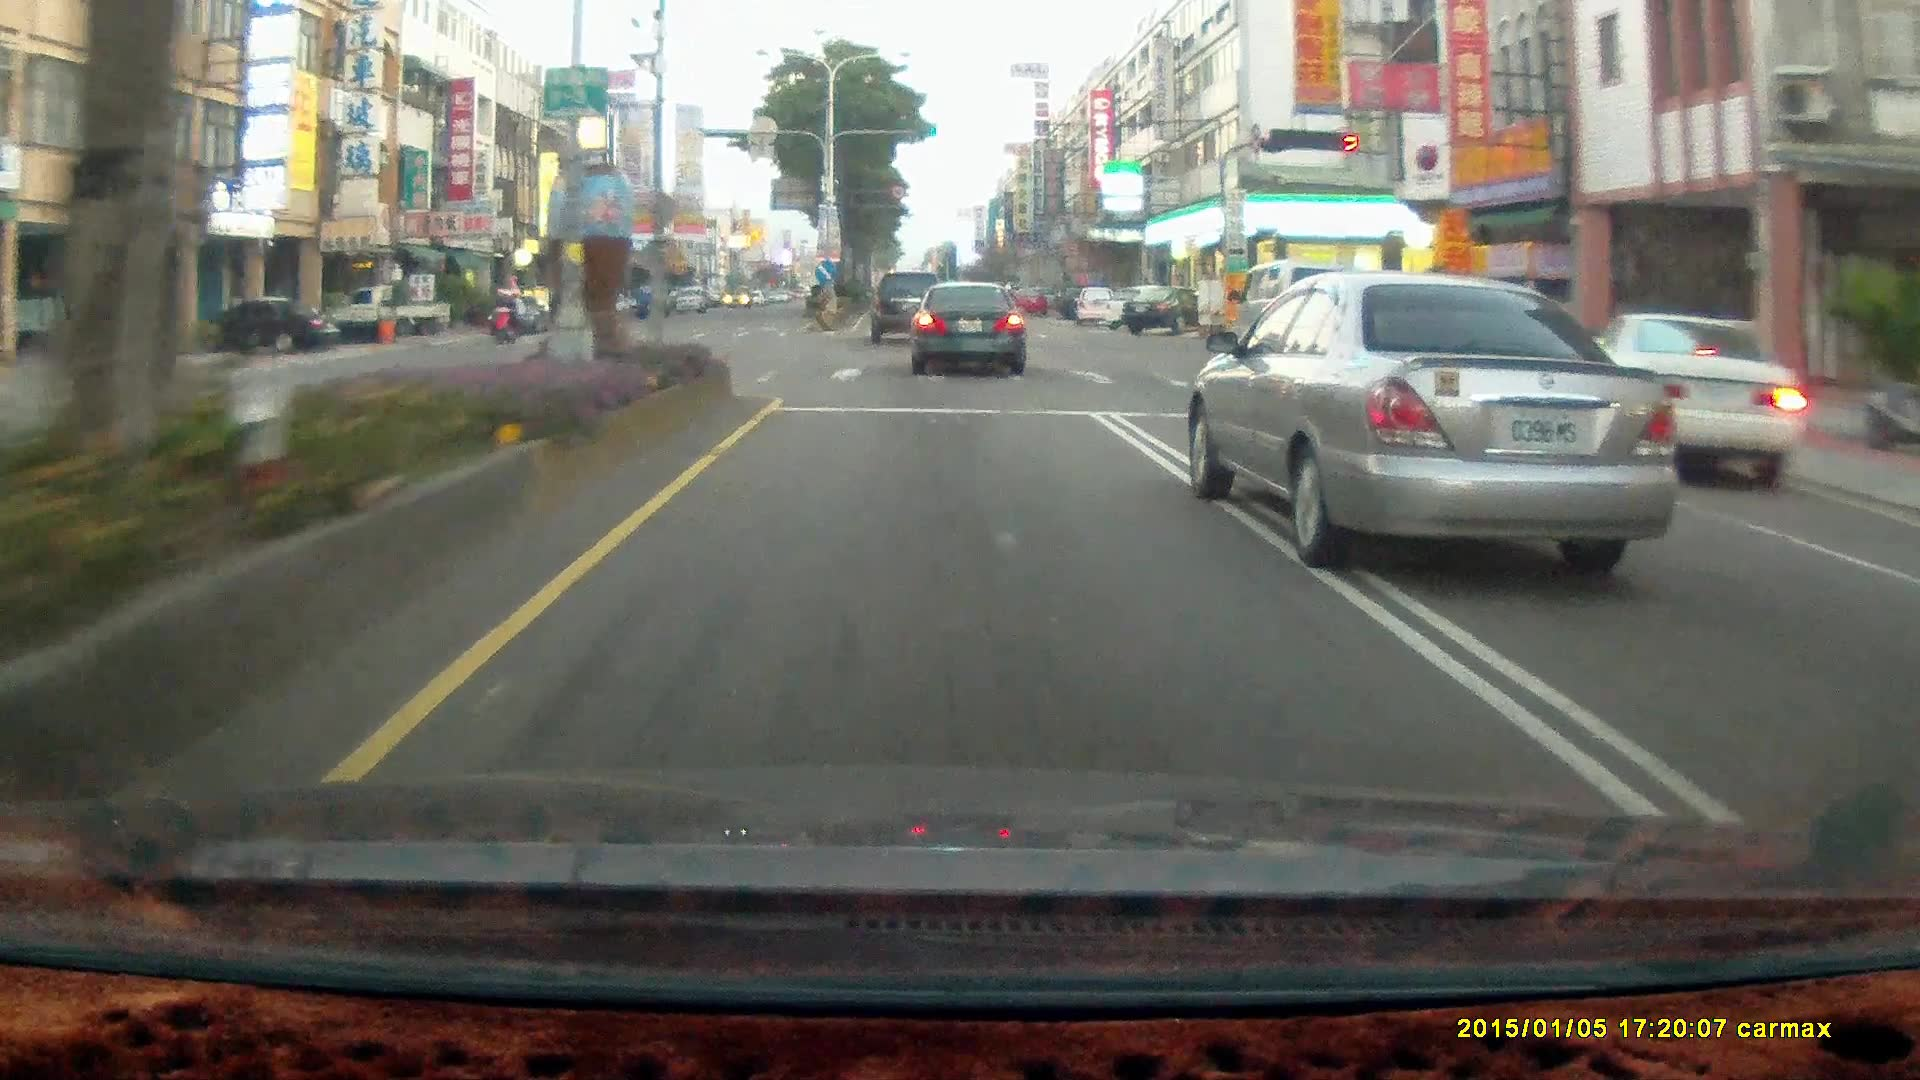rider: (491, 290, 524, 342)
vehicle: (1185, 271, 1686, 572), (1572, 309, 1809, 485), (1573, 310, 1807, 486), (1230, 260, 1388, 374), (1238, 265, 1396, 379), (909, 281, 1030, 381), (908, 280, 1024, 376), (176, 300, 333, 355), (218, 300, 341, 360), (340, 288, 455, 350), (326, 282, 449, 337), (869, 270, 948, 347), (872, 271, 948, 343), (1123, 283, 1212, 332), (1124, 286, 1192, 340), (1102, 288, 1157, 329), (488, 300, 549, 335), (1071, 285, 1120, 326), (589, 295, 629, 323), (638, 288, 666, 315), (672, 287, 703, 310)
